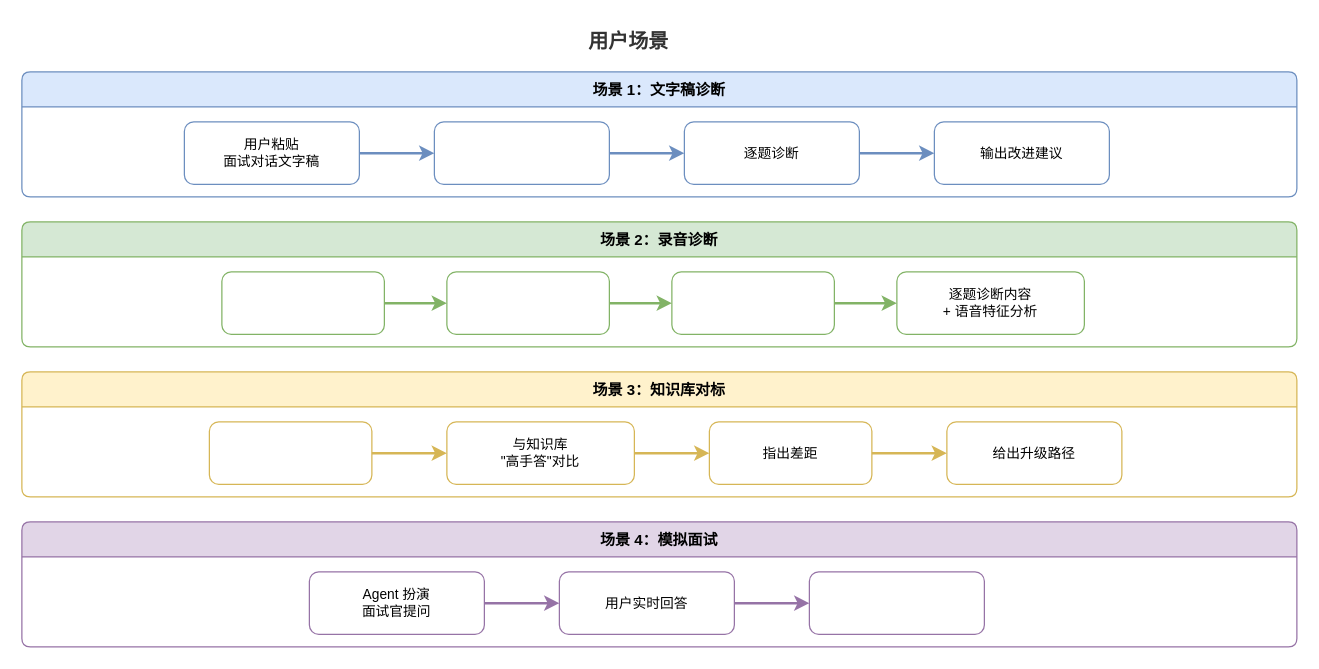
This 1319x669 diagram has some shape labels left out. The shapes that lost their labels are listed below. From the top down, each one's centre as x and y in pixels, then its label:
At pixel 521 152: "Agent 识别 每道题的回答".
At pixel 302 302: "用户上传 面试录音".
At pixel 527 302: "STT 转写".
At pixel 752 302: "识别说话人".
At pixel 290 452: "用户回答".
At pixel 896 602: "即时反馈".
